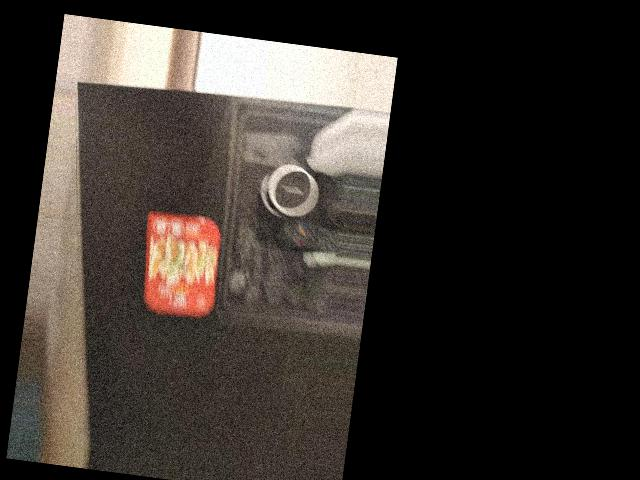cheese: (130, 204, 233, 324)
